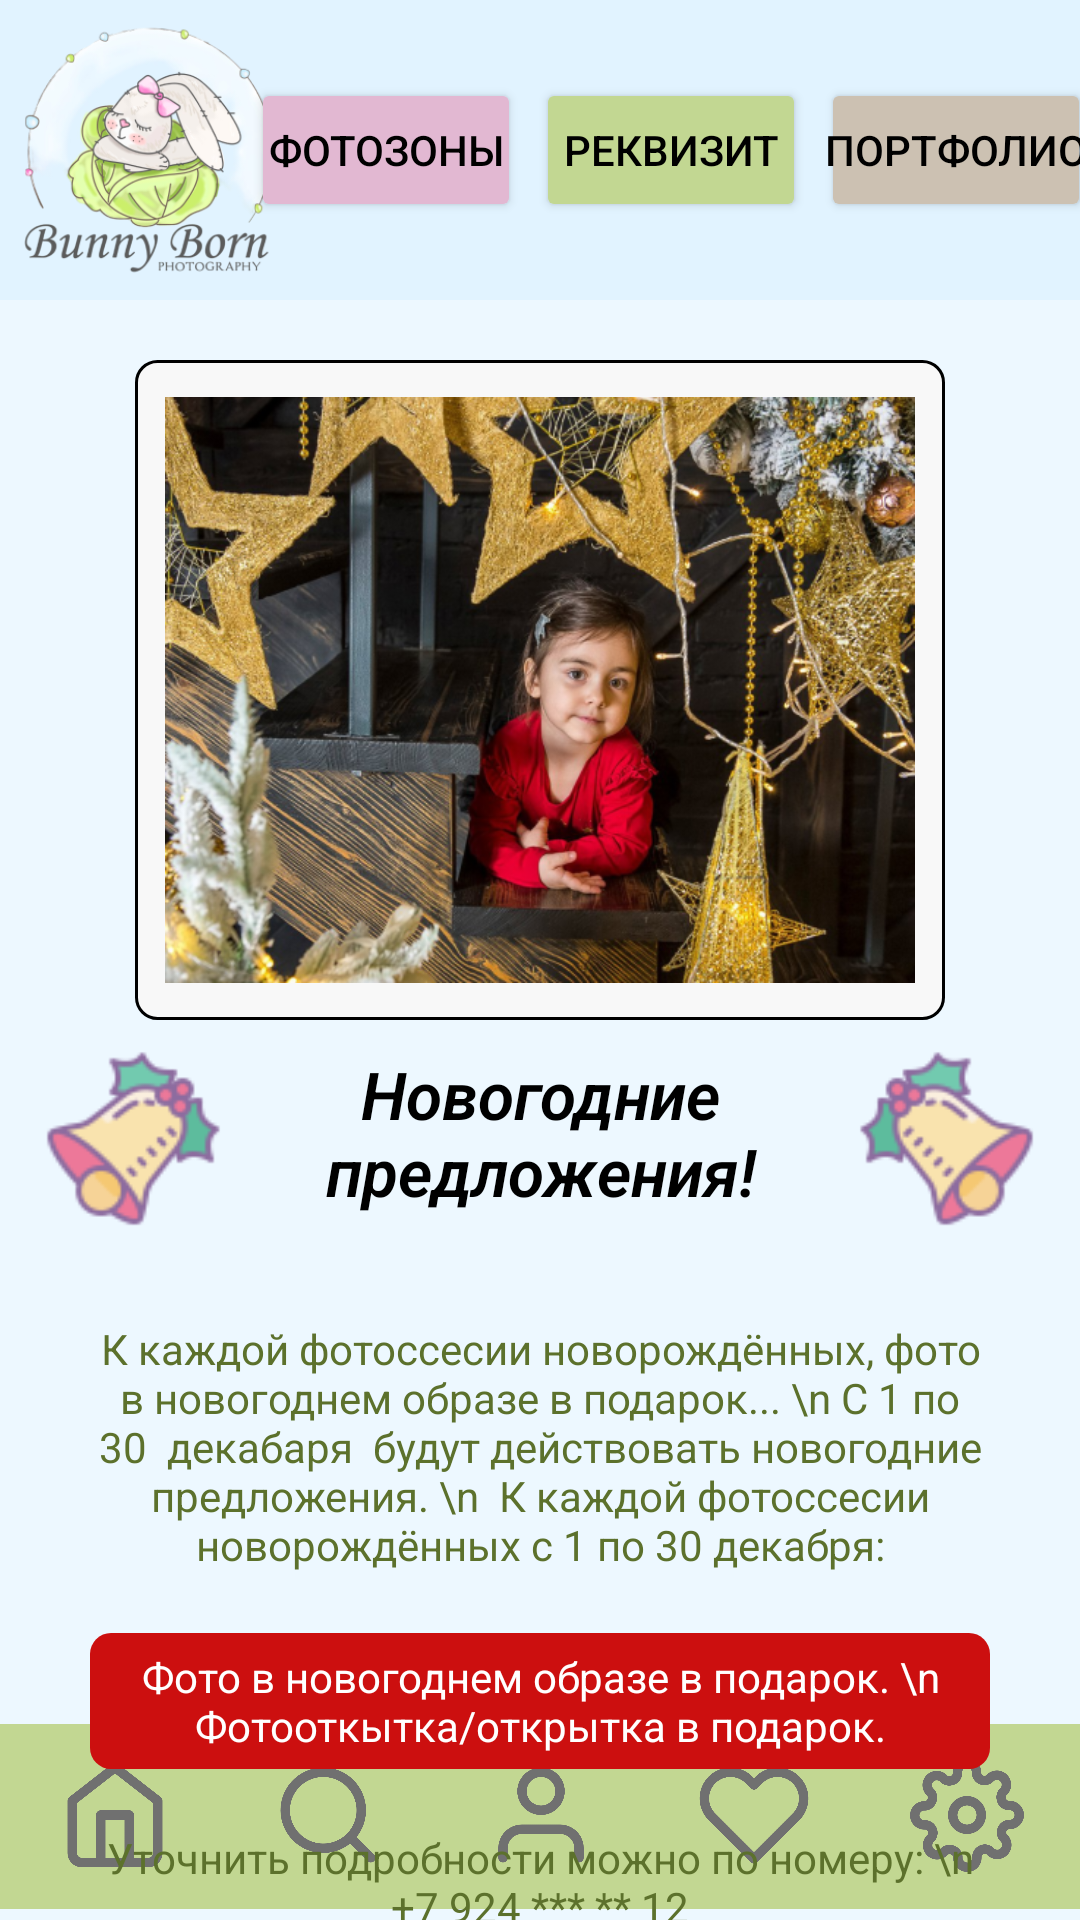

Named icons in this screenshot (1080×1920) and their centers, point (x, y):
home: point (119, 1815)
lbell: point (133, 1138)
likes: point (754, 1815)
rbell: point (946, 1138)
search: point (328, 1815)
settings: point (967, 1815)
user: point (541, 1815)
